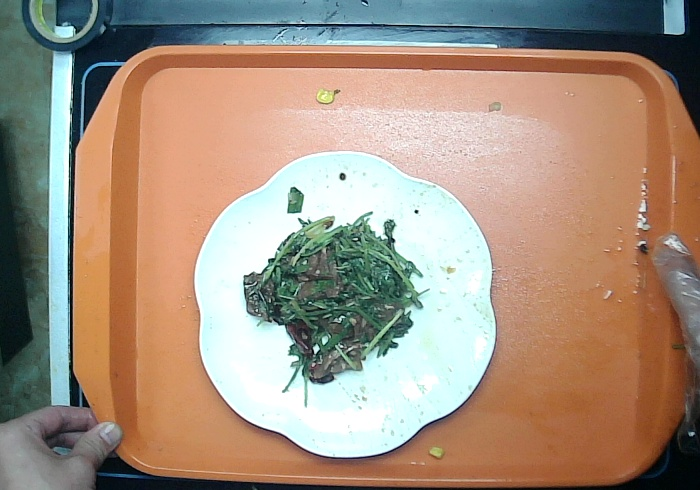HZYJPL-Bai_Se_Hua_Duo_Wan: (190, 149, 498, 461)
